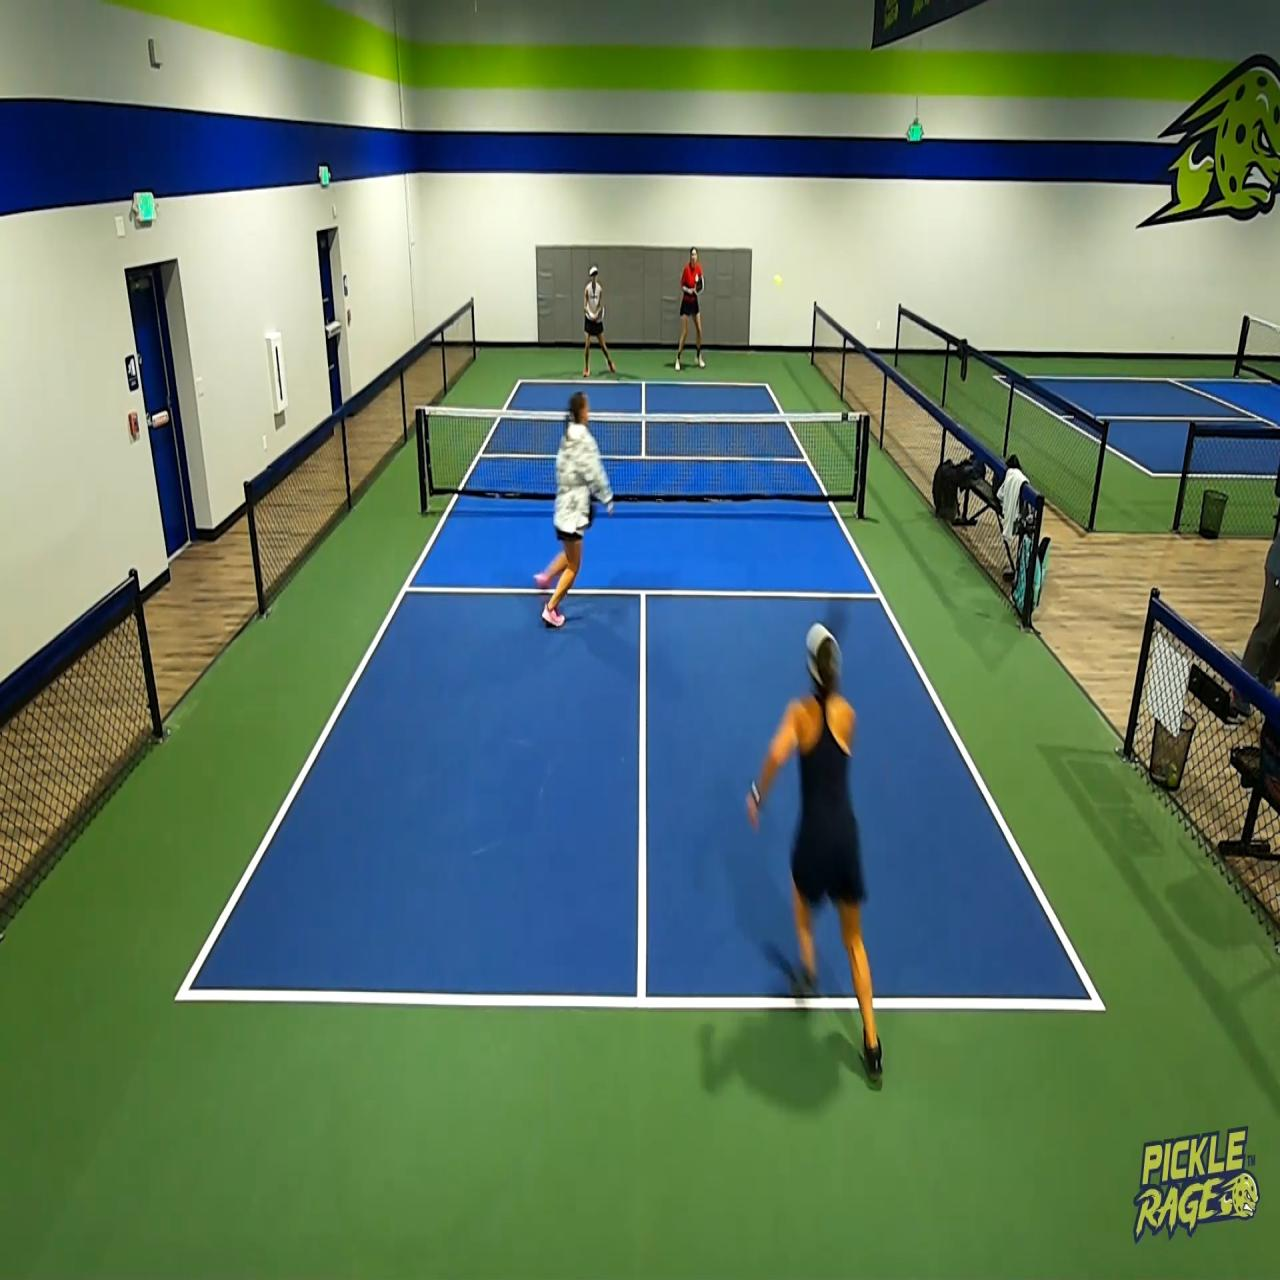Pickleball: (772, 268, 783, 293)
